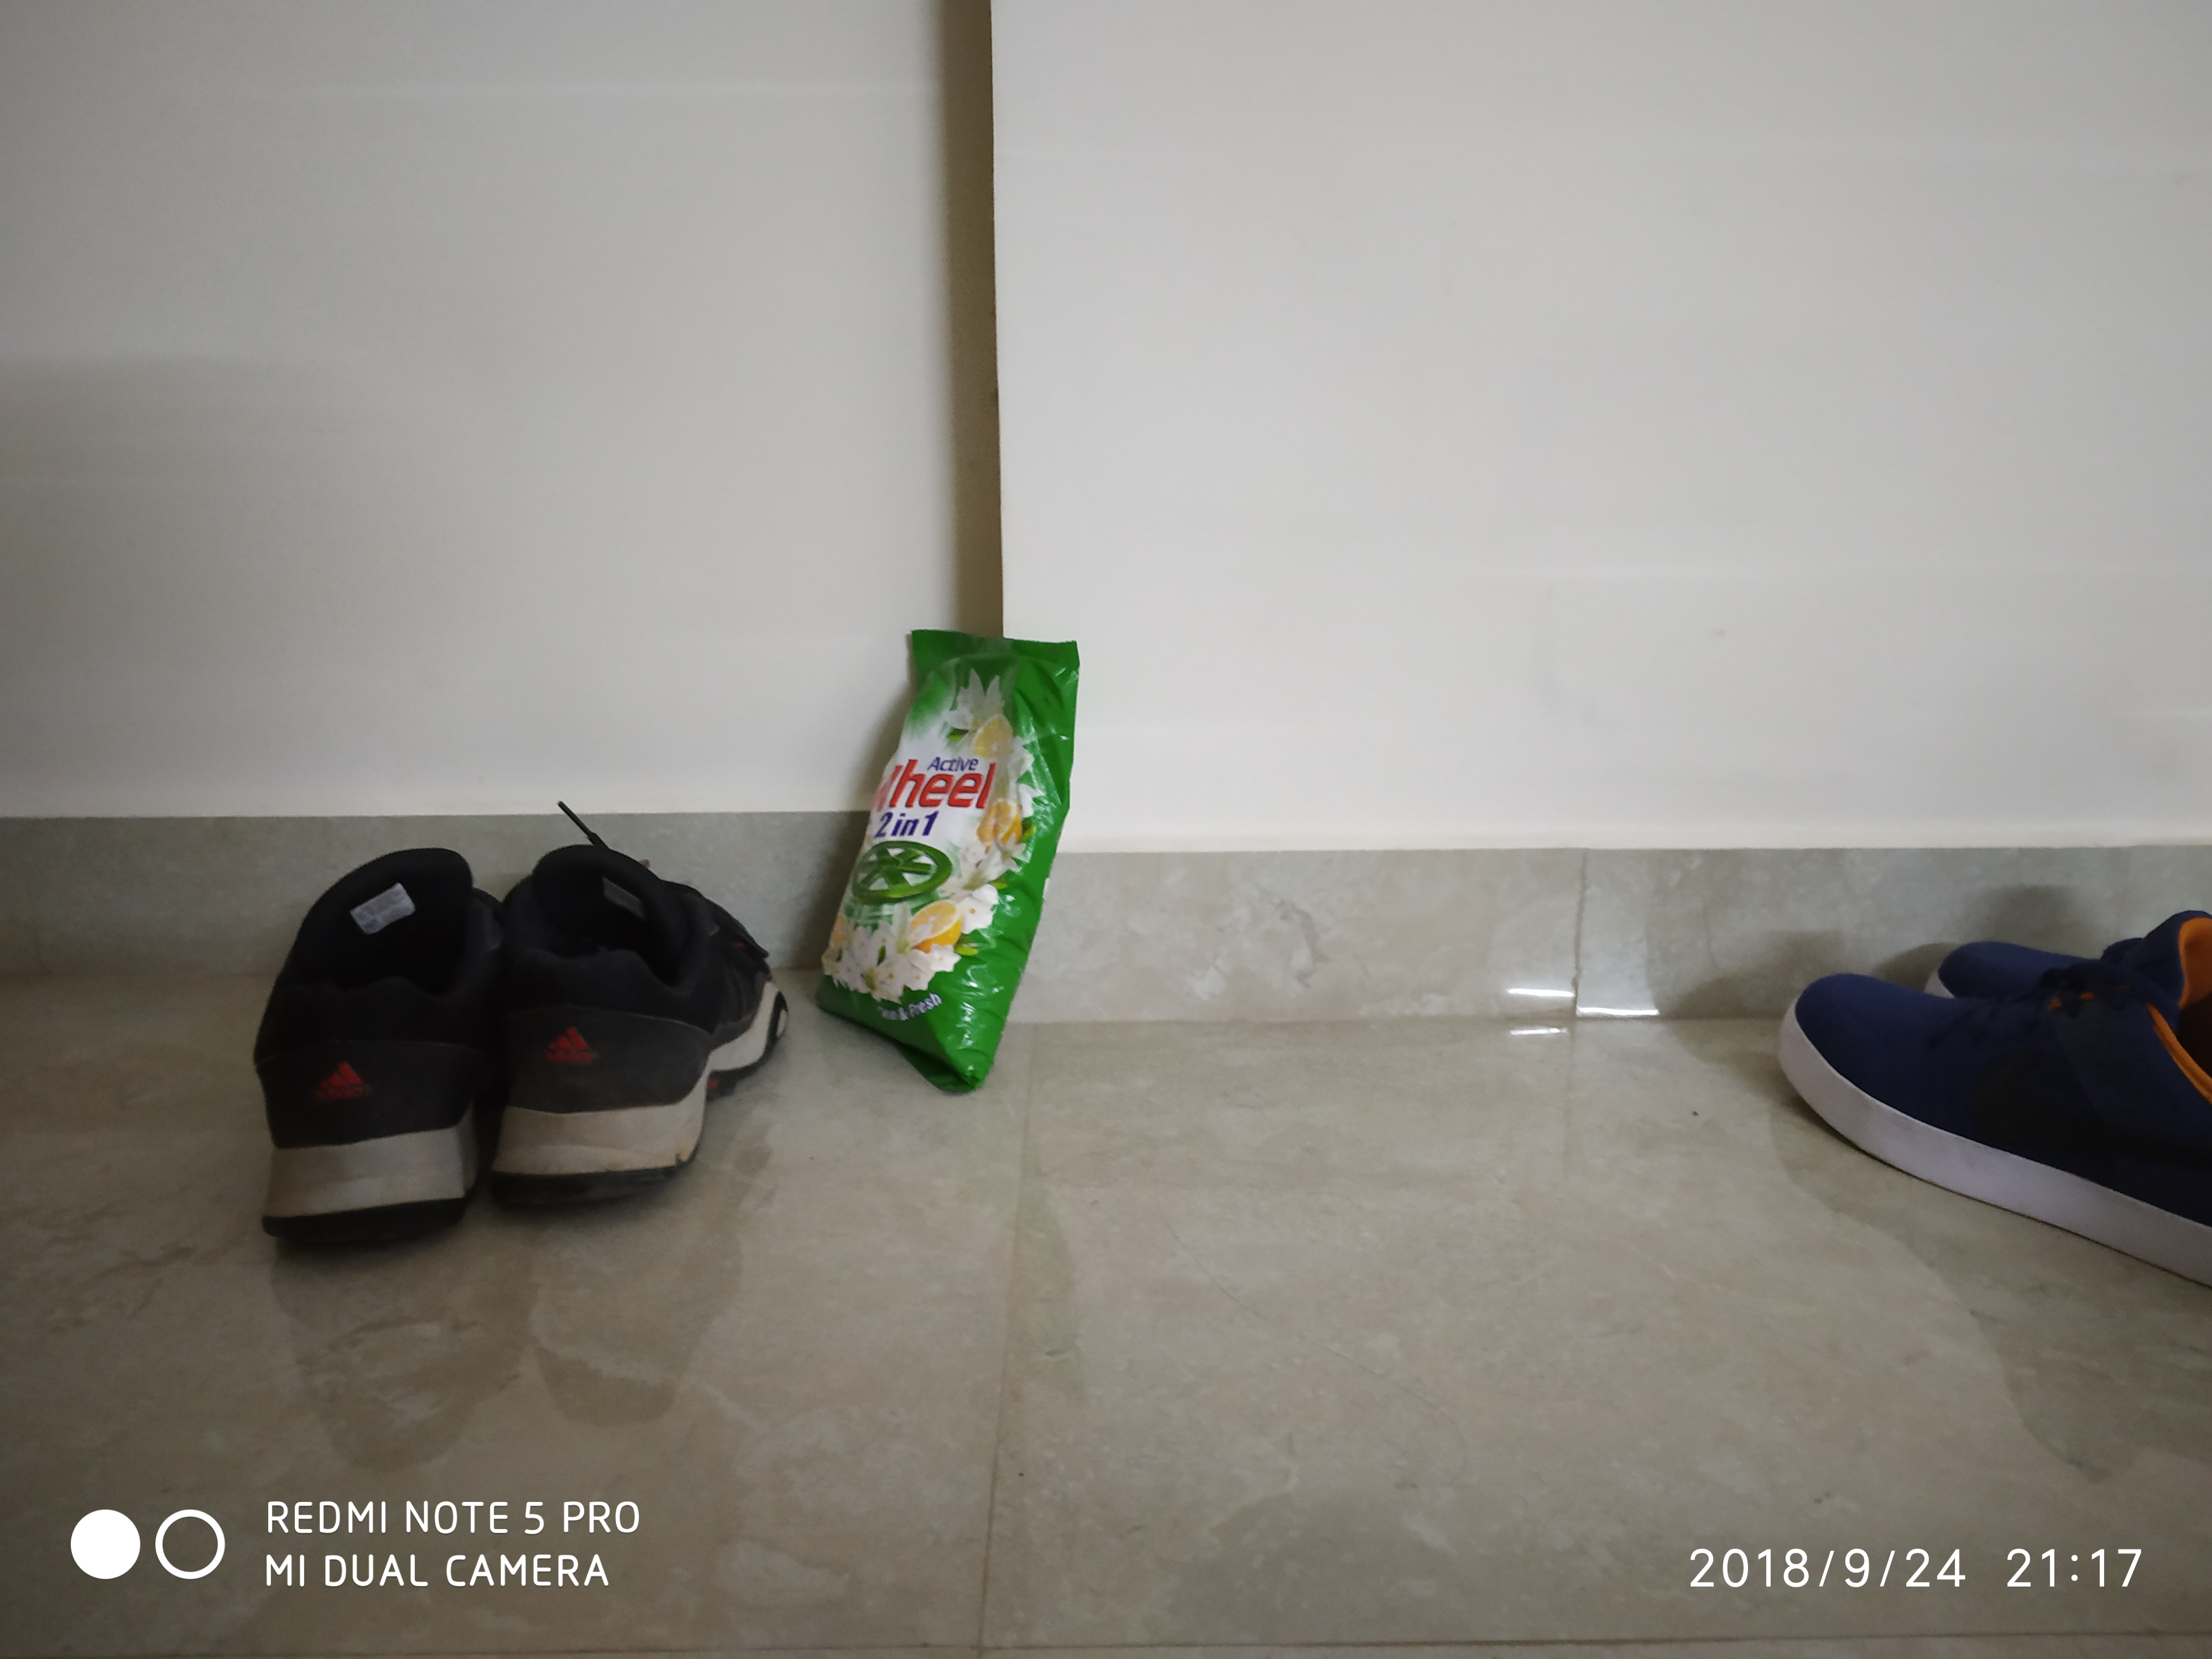detergent: (802, 623, 1089, 1100)
